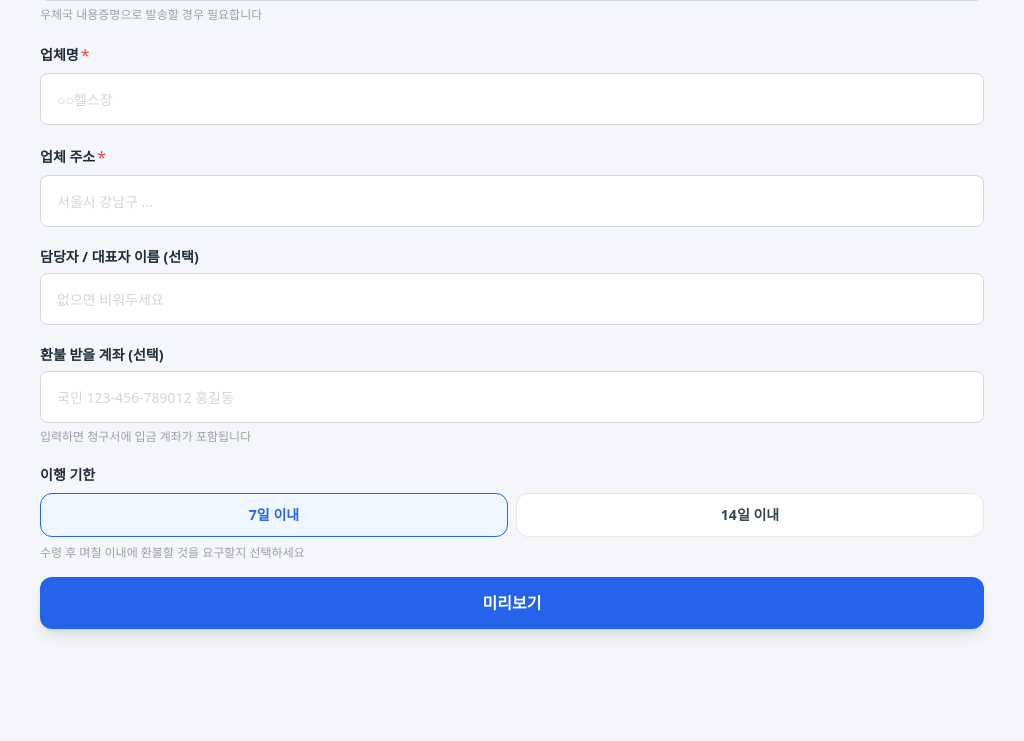
Scenario: PdfClient › 필수 필드 미입력 시 미리보기로 이동하지 않는다
(page scrolled)
Click the button "미리보기": (512,603) x1=40 y1=577 x2=984 y2=629
(page scrolled)
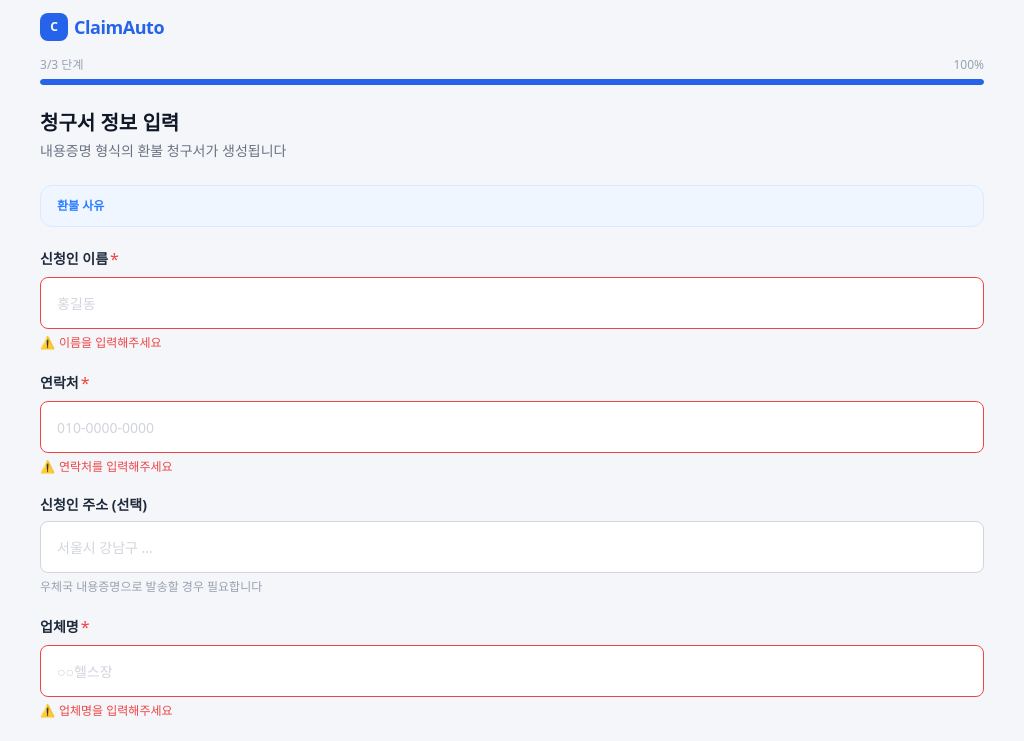
Check: the text "이름을 입력해주세요" is shown, box x1=59 y1=334 x2=162 y2=351
